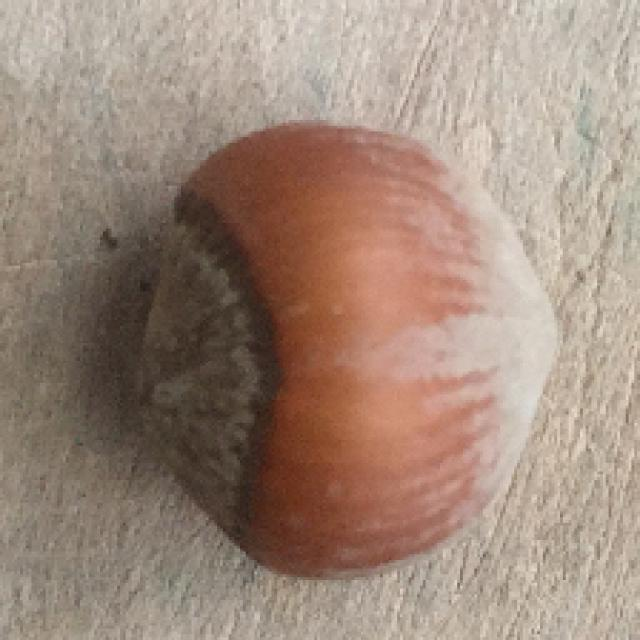qualityHazelnut: (142, 118, 562, 576)
